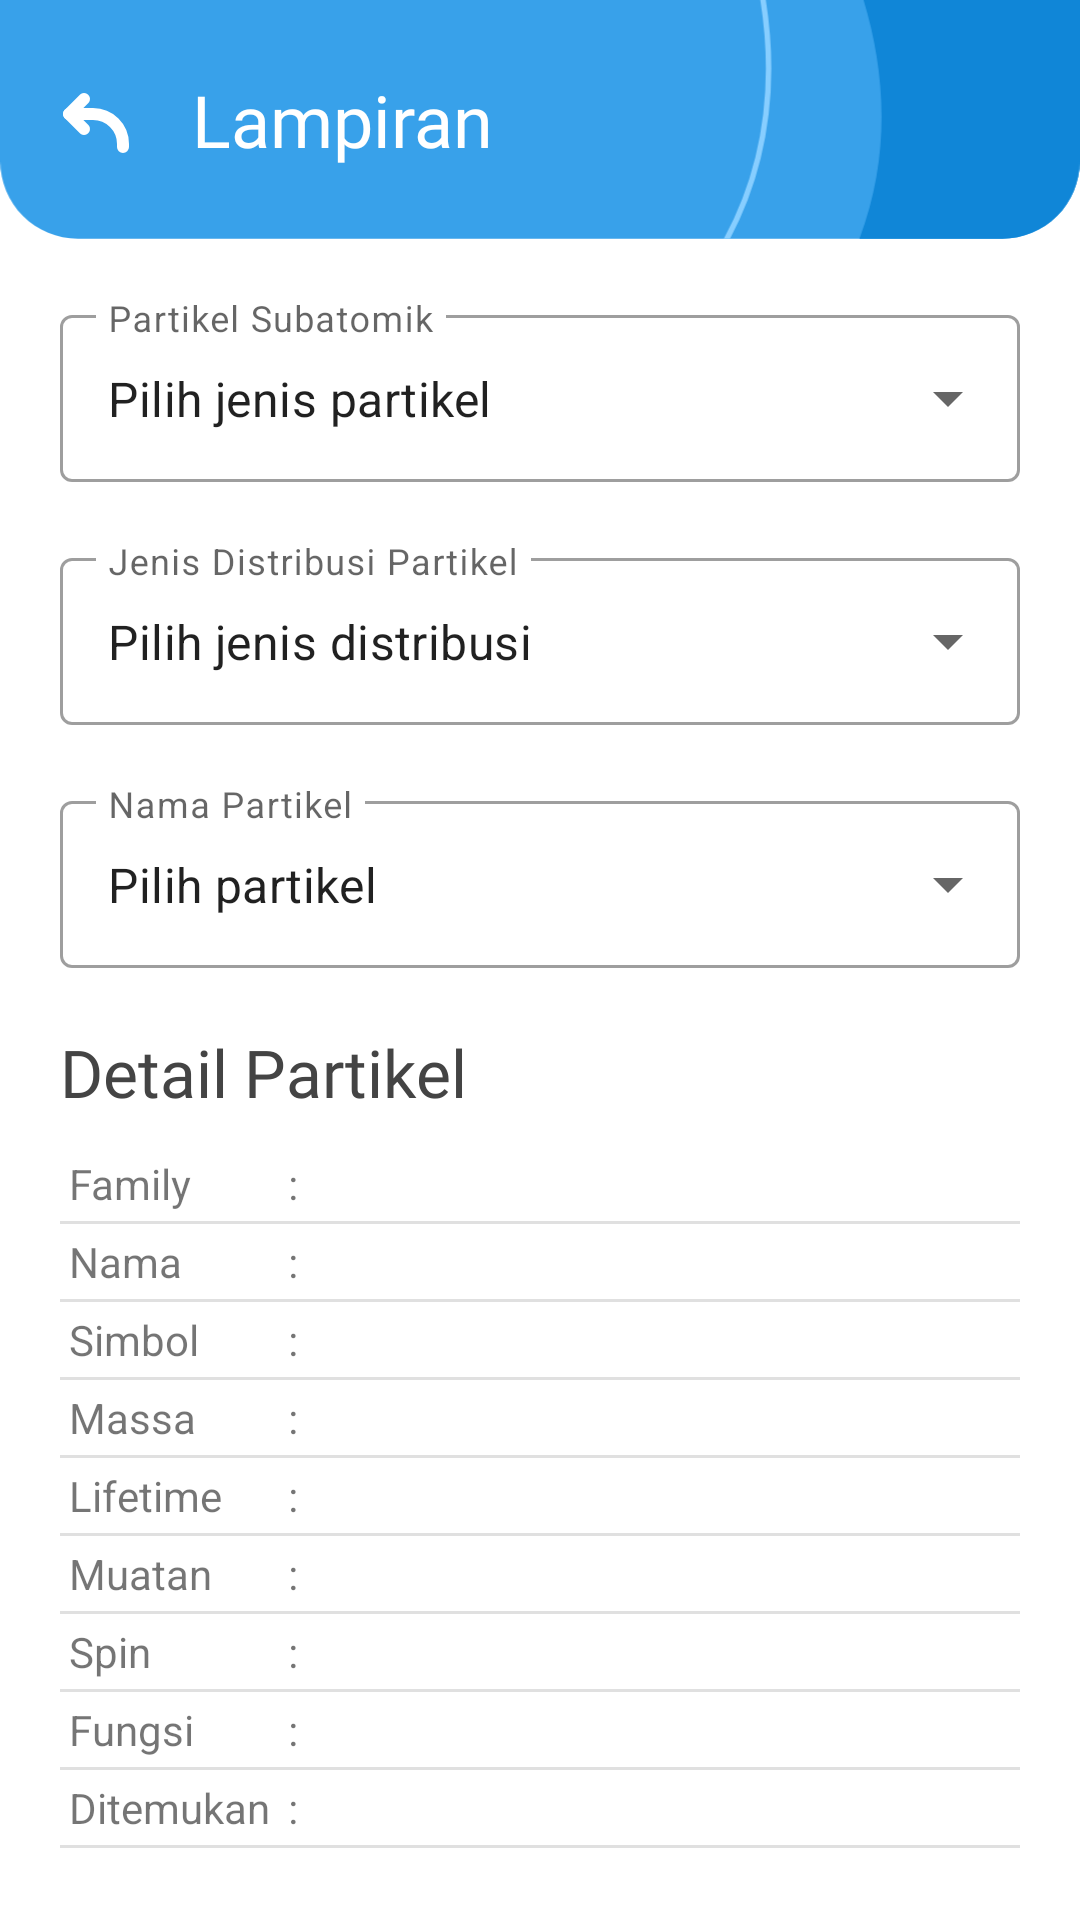

Named icons in this screenshot (1080px x 1920px) and their centers, (x,y):
arrow back: (96,123)
